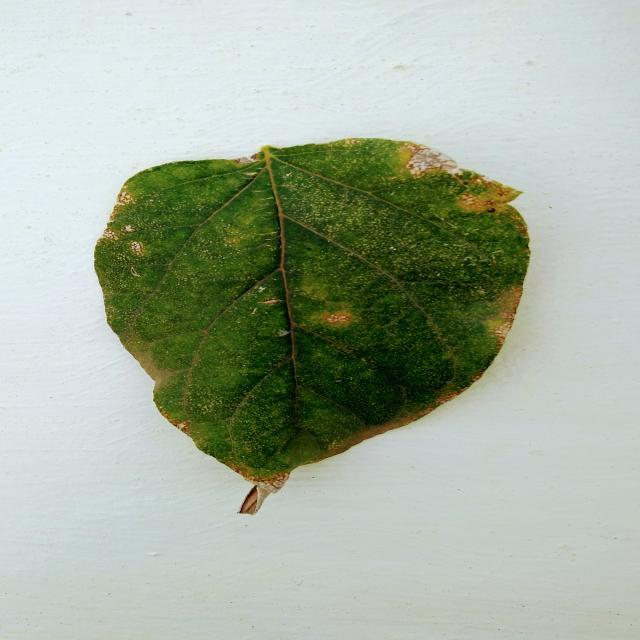leaf: (92, 135, 531, 514)
